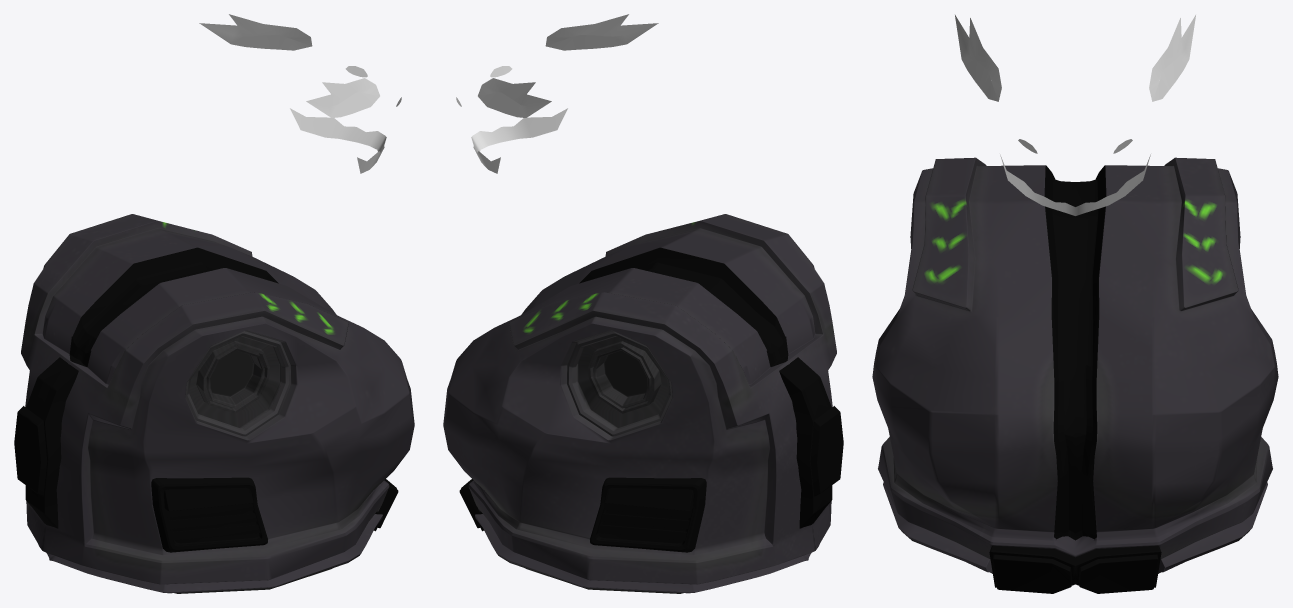
File: AS_DiagF_MOuthCH.fbx
3 renders of one model, left to right at view 1: azimuth 30°, elevation 25°; view 2: azimuth 150°, elevation 25°; view 3: azimuth 270°, elevation 25°, orthographic. The views are drawn at different scales.
Visible parts, largest first — view 1: Chest_armor, Face; view 2: Chest_armor, Face; view 3: Chest_armor, Face.
Boxes of the visible parts, bbox=[...] form: Chest_armor: bbox=[14, 214, 414, 593]; Face: bbox=[199, 14, 401, 173]; Chest_armor: bbox=[443, 214, 843, 593]; Face: bbox=[456, 14, 658, 173]; Chest_armor: bbox=[872, 157, 1278, 593]; Face: bbox=[955, 15, 1195, 215].
Bounding box in the file's own units: 30.78 × 26.77 × 38.9.
